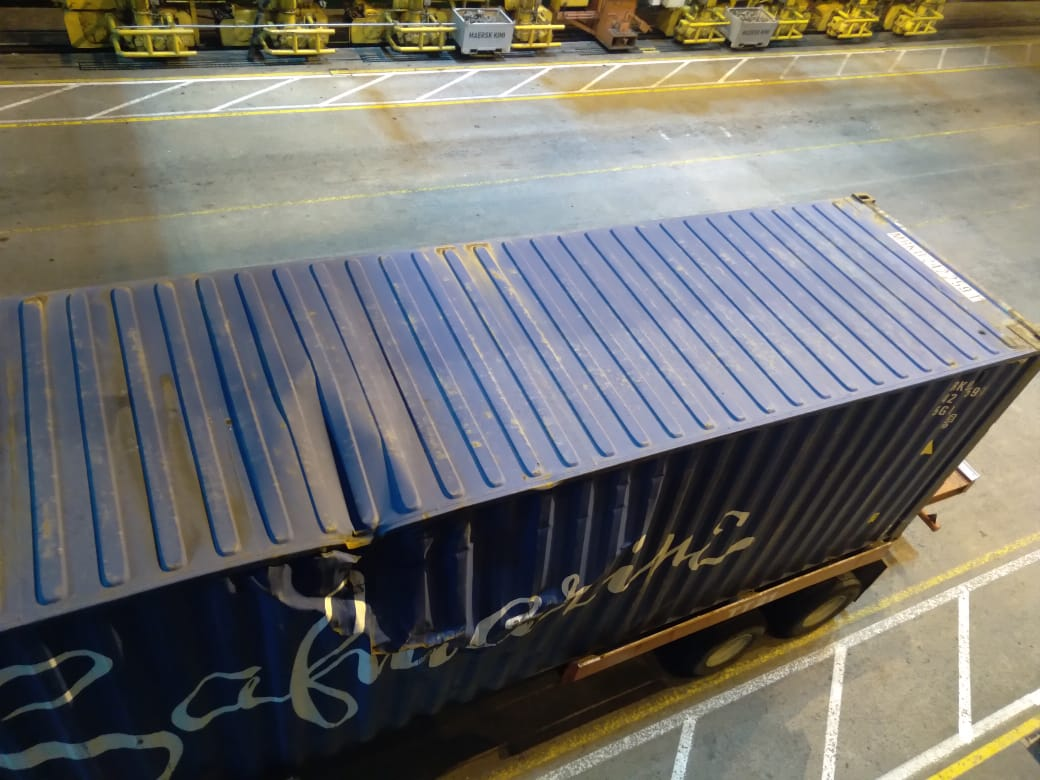moderate: (286, 488, 660, 665), (256, 358, 424, 518)
